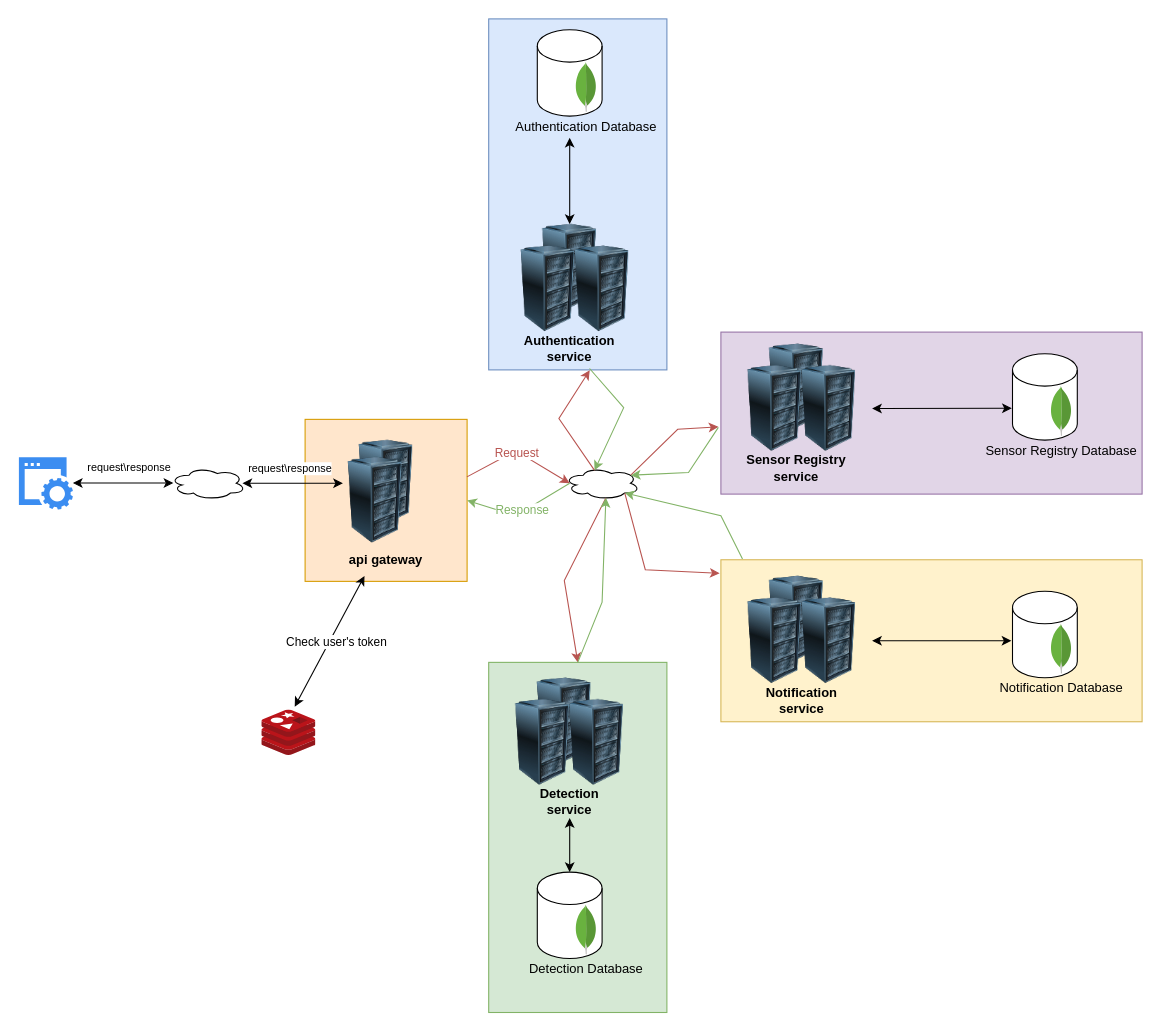
This 1161x1031 diagram has some shape labels left out. Each missing label, with the centre of its shape:
"Authentication Token Cluster" goes at (288,732).
"website" goes at (45,483).
